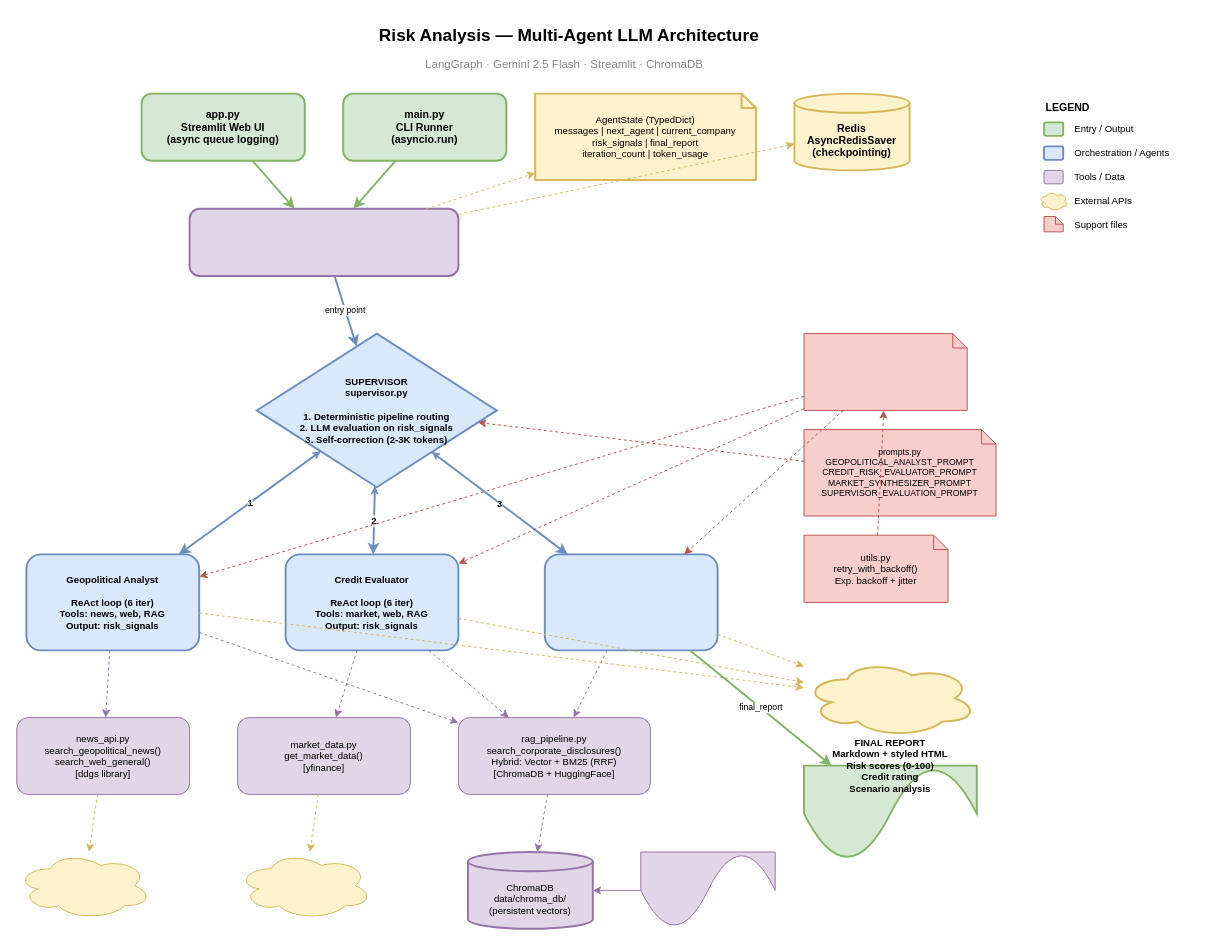
Some shapes in this 1224 by 946 pixel diagram are drawn without their labels. The shapes that lost their labels are listed below. From the top down, each one's centre as x and y in pixels, then its label:
At (323,241): "graph.py LangGraph StateGraph Builder build_graph() / build_graph_with_redis()".
At (885,371): "nodes.py _run_react_loop() _prune_messages() _extract_token_usage()".
At (630,602): "Market Synthesizer ReAct loop (4 iter) Tools: web, RAG Output: final_report".
At (890,698): "Gemini 2.5 Flash Google GenAI API".
At (83,885): "DuckDuckGo Web + News".
At (304,885): "Yahoo Finance Market Data".
At (707,890): "PDF Documents data/docs/ WEF, Moody's, IMF (6 risk reports)".
